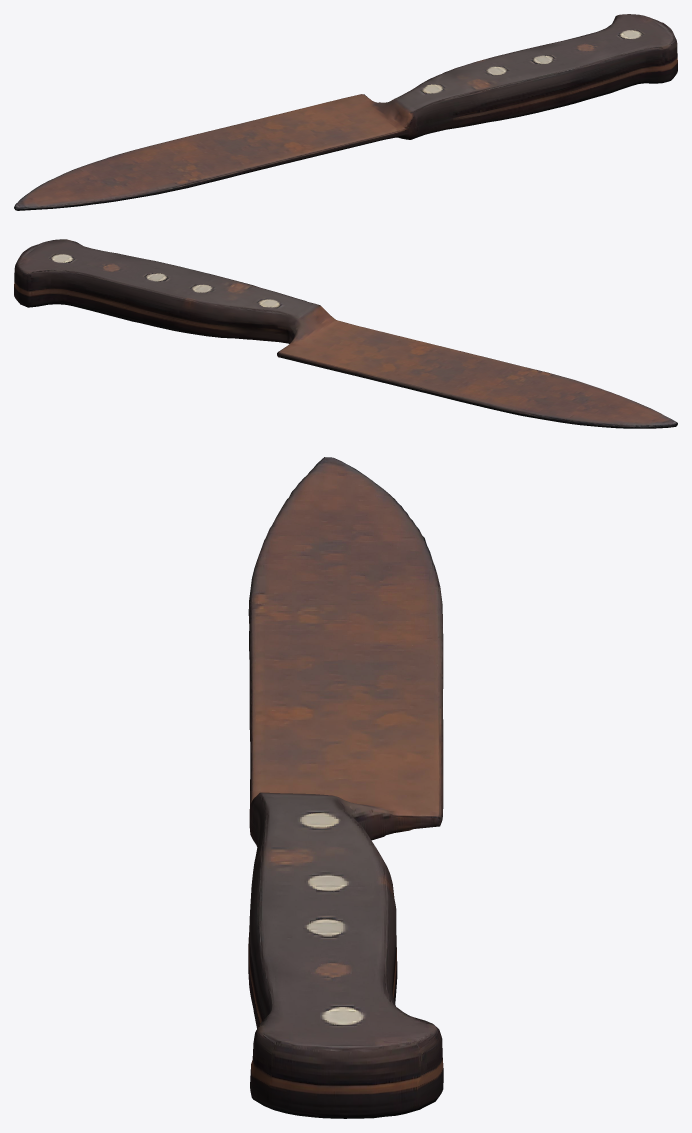
Rendered from asset.glb.
3 renders of one model, top to bottom at view 1: azimuth 30°, elevation 25°; view 2: azimuth 150°, elevation 25°; view 3: azimuth 270°, elevation 25°, orthographic. The views are drawn at different scales.
Parts seen in each view (by area): view 1: world; view 2: world; view 3: world.
Boxes of the visible parts, box(x1,y1,x2,y2) form: world: box(14, 14, 677, 210); world: box(14, 239, 677, 428); world: box(248, 457, 443, 1118).
Bounding box in the file's own units: 1 × 0.0529 × 0.1305.
1 material, 1 textured.
